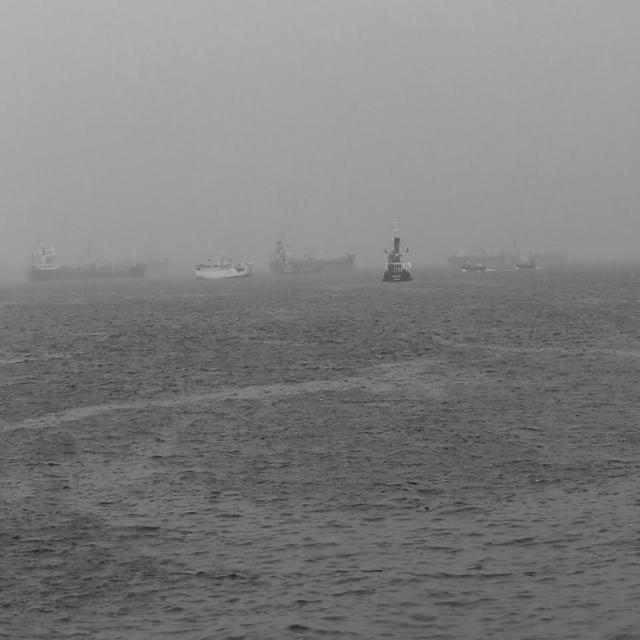ship: (28, 238, 148, 278), (269, 240, 356, 276), (382, 213, 412, 284), (193, 253, 254, 280), (448, 246, 516, 264), (460, 260, 488, 274), (516, 260, 538, 270)
